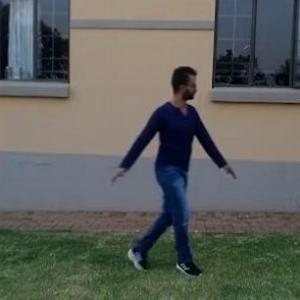land: (114, 76, 239, 241)
